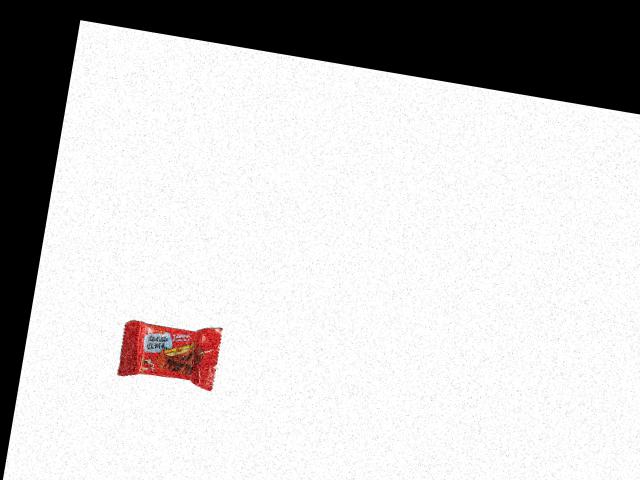chocolate: (108, 304, 225, 390)
